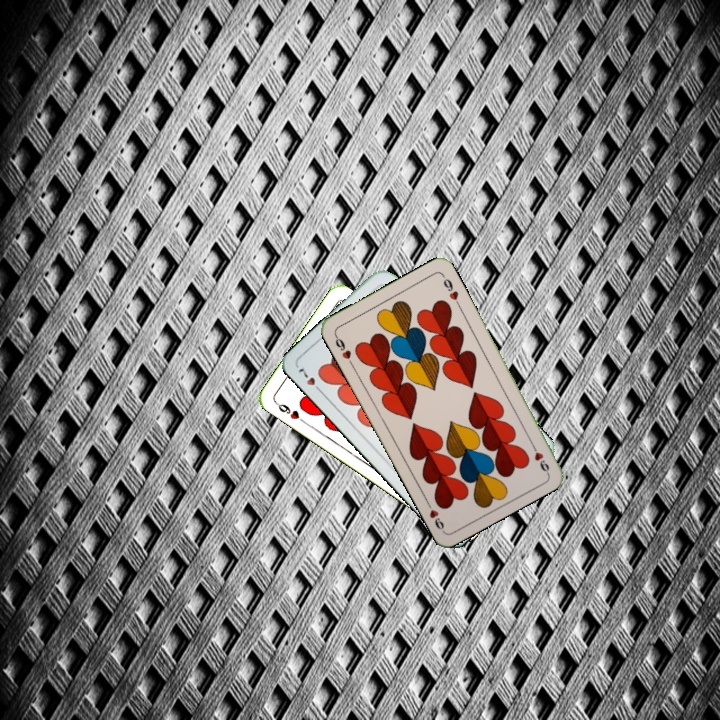H7: (294, 362, 325, 396)
H9: (271, 398, 307, 425), (526, 438, 552, 475), (331, 330, 355, 368)
